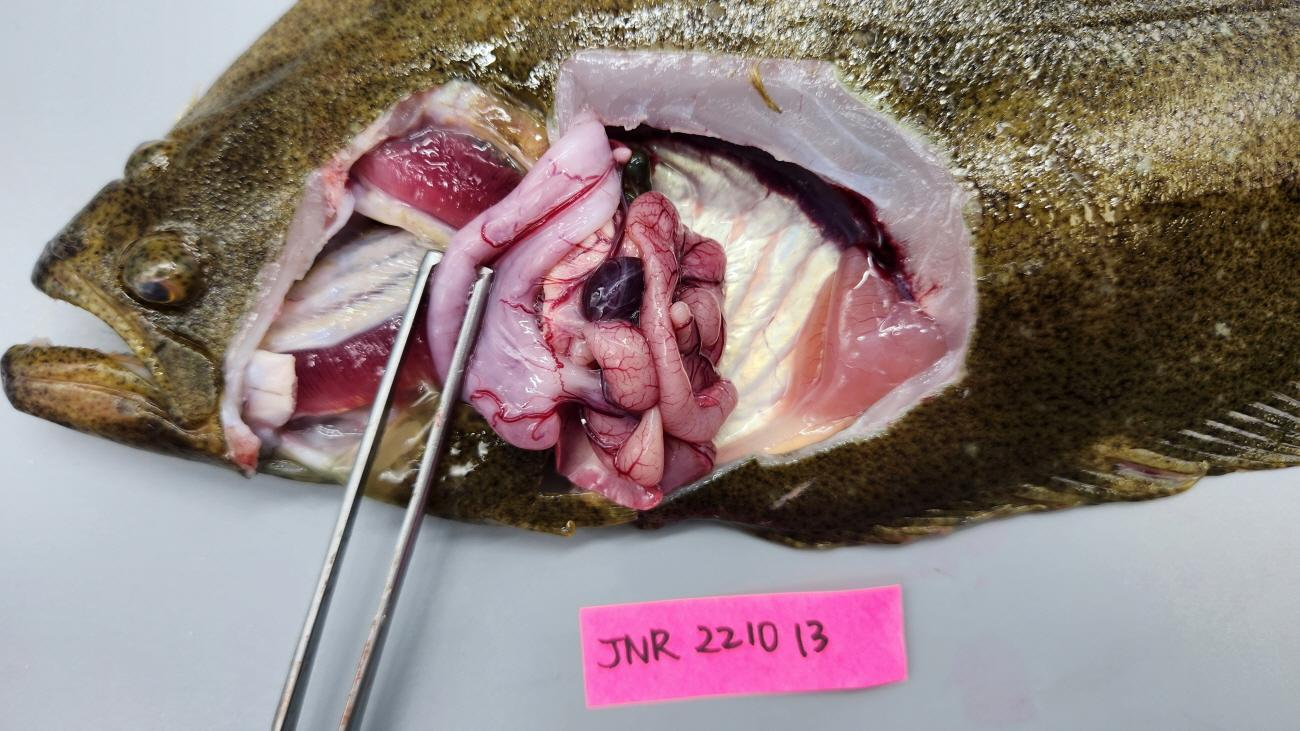POSPN: (579, 256, 644, 321)
